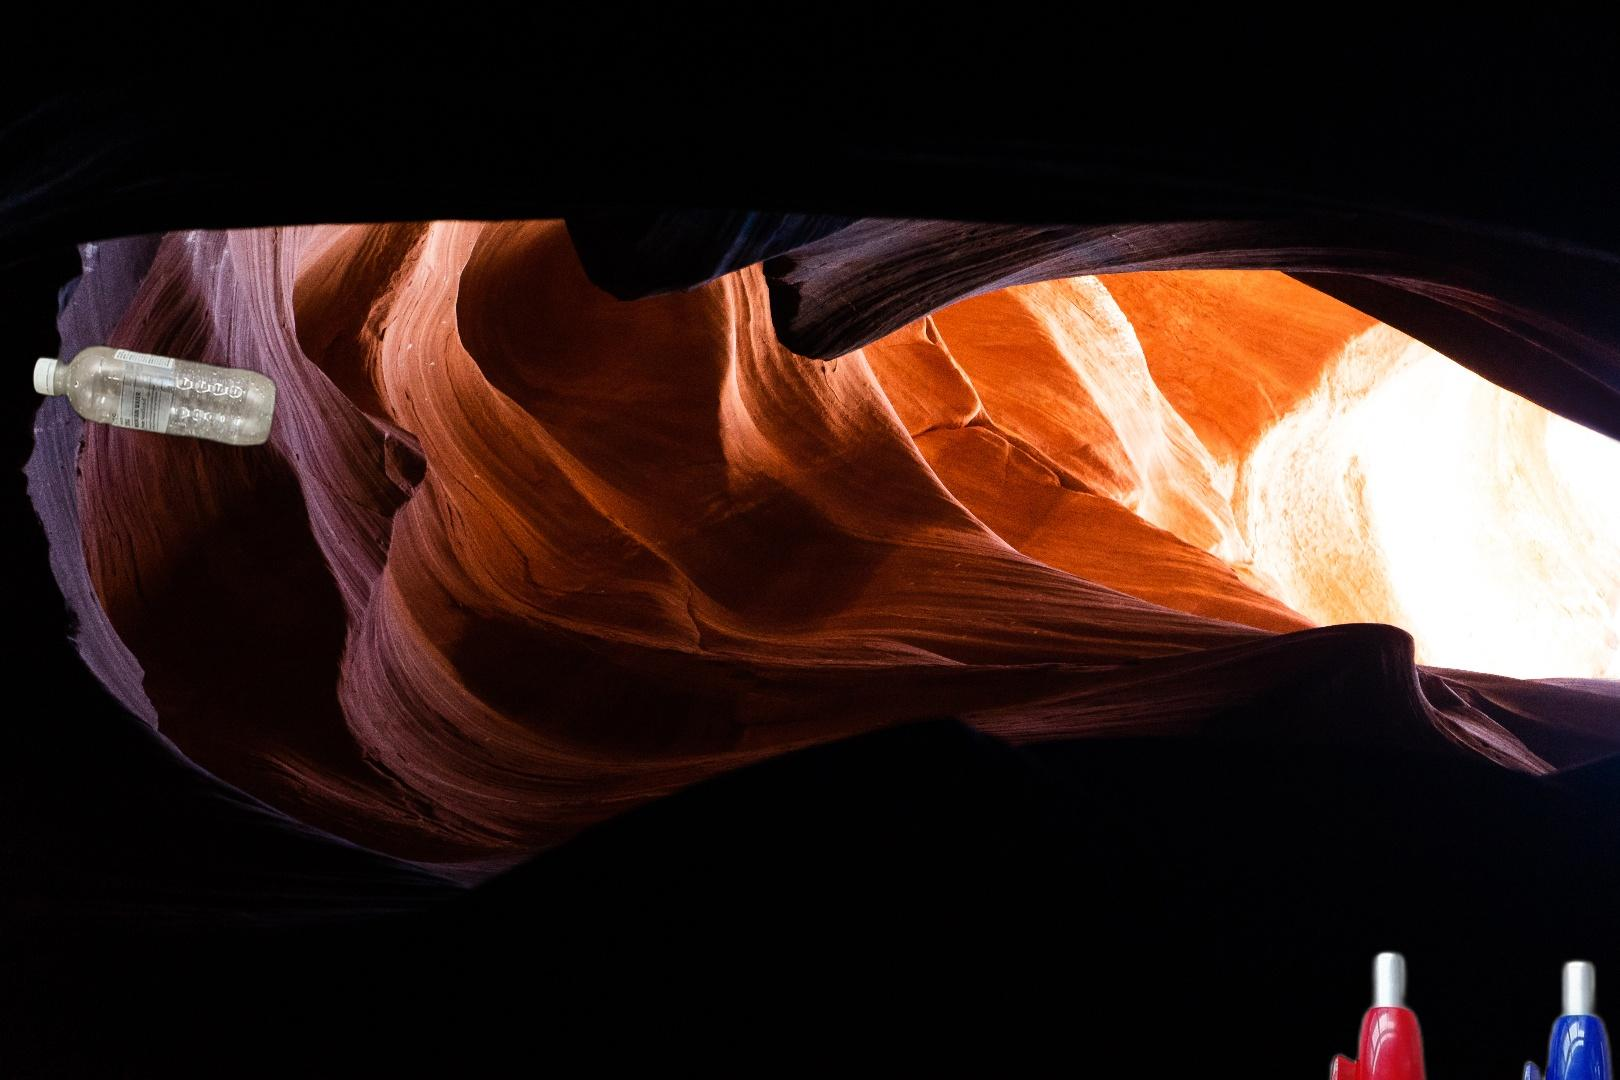penholder: (1317, 943, 1620, 1080)
plastic-bottles: (28, 321, 464, 857)
